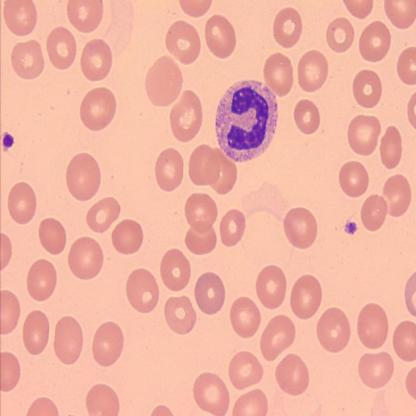Band Neutrophil: (213, 73, 280, 166)
